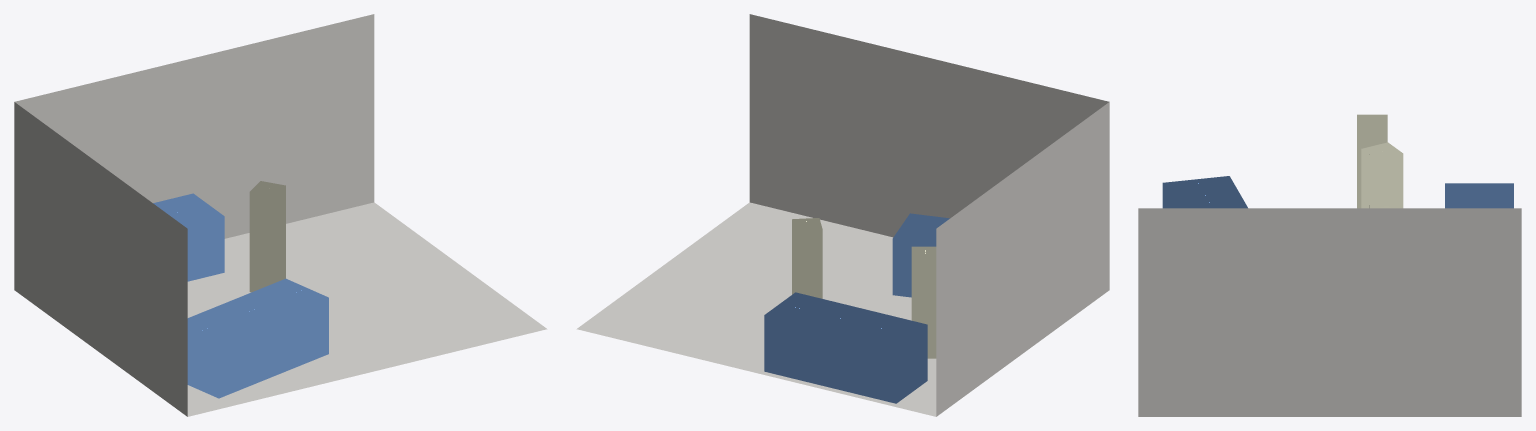
The picture shows the model from 3 angles, left to right: view 1: azimuth 30°, elevation 25°; view 2: azimuth 150°, elevation 25°; view 3: azimuth 270°, elevation 25°; orthographic projection. The views are drawn at different scales.
Visible parts, largest first — view 1: Room, blue_sofa_1_mesh, floor_lamp_1_mesh, blue_sofa_0_mesh; view 2: Room, blue_sofa_0_mesh, floor_lamp_1_mesh, floor_lamp_2_mesh, blue_sofa_1_mesh; view 3: Room, floor_lamp_2_mesh, blue_sofa_1_mesh, blue_sofa_0_mesh, floor_lamp_0_mesh.
Boxes of the visible parts, x1,y1,x2,y2 form: Room: (14,14,547,416); blue_sofa_1_mesh: (187,278,328,398); floor_lamp_1_mesh: (249,181,285,292); blue_sofa_0_mesh: (153,193,224,281); Room: (576,14,1109,416); blue_sofa_0_mesh: (764,292,927,403); floor_lamp_1_mesh: (792,218,822,298); floor_lamp_2_mesh: (911,246,936,358); blue_sofa_1_mesh: (892,213,949,297); Room: (1138,208,1521,416); floor_lamp_2_mesh: (1361,142,1403,208); blue_sofa_1_mesh: (1162,176,1247,208); blue_sofa_0_mesh: (1445,183,1513,208); floor_lamp_0_mesh: (1357,114,1387,208).
Bounding box in the file's own units: 6 × 3 × 5.
